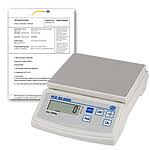Industrial Scale: (30, 51, 149, 148)
